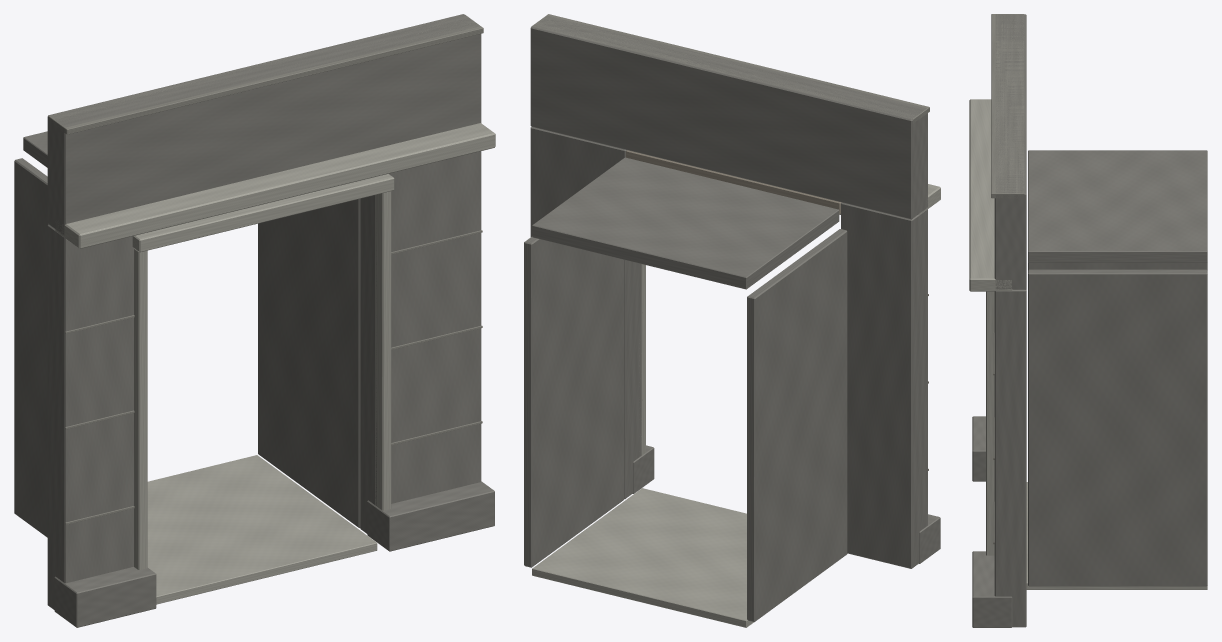
File: F07_AlleyMouth_visual.glb
3 renders of one model, left to right at view 1: azimuth 30°, elevation 25°; view 2: azimuth 150°, elevation 25°; view 3: azimuth 270°, elevation 25°, orthographic. The views are drawn at different scales.
Visible parts, largest first — view 1: F07_AlleyMouth__VIS; view 2: F07_AlleyMouth__VIS; view 3: F07_AlleyMouth__VIS.
Boxes of the visible parts, x1,y1,x2,y2 form: F07_AlleyMouth__VIS: [14, 14, 495, 627]; F07_AlleyMouth__VIS: [524, 14, 940, 627]; F07_AlleyMouth__VIS: [969, 14, 1207, 627].
Bounding box in the file's own units: 16.08 × 18.3 × 8.96.
1 material, 1 textured.
